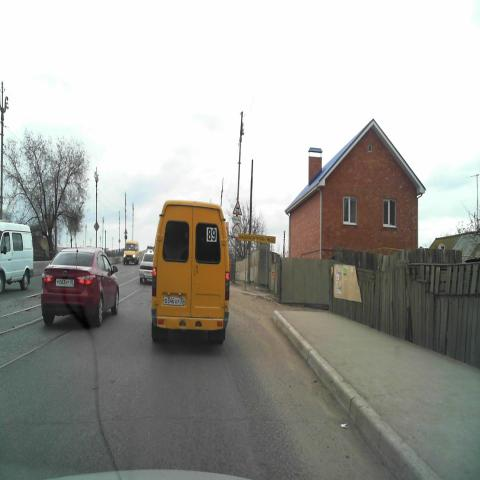1_15: (234, 201, 242, 214)
3_11: (233, 224, 241, 237)
